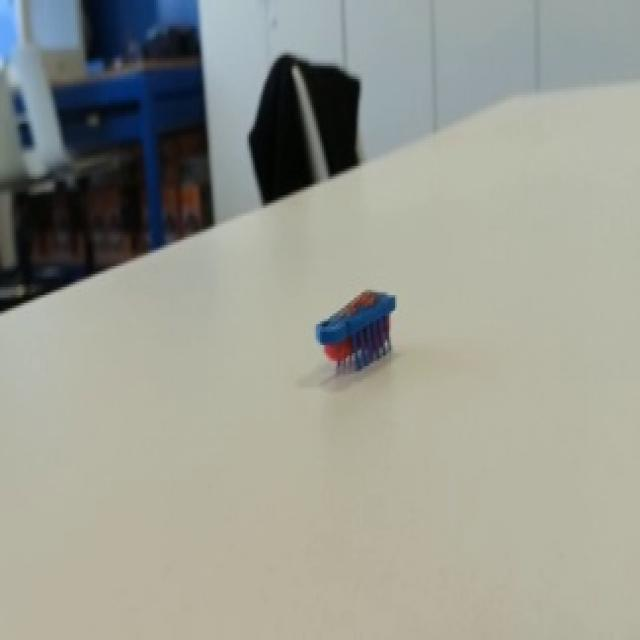1_NanoBug_Azul: (268, 244, 452, 402)
